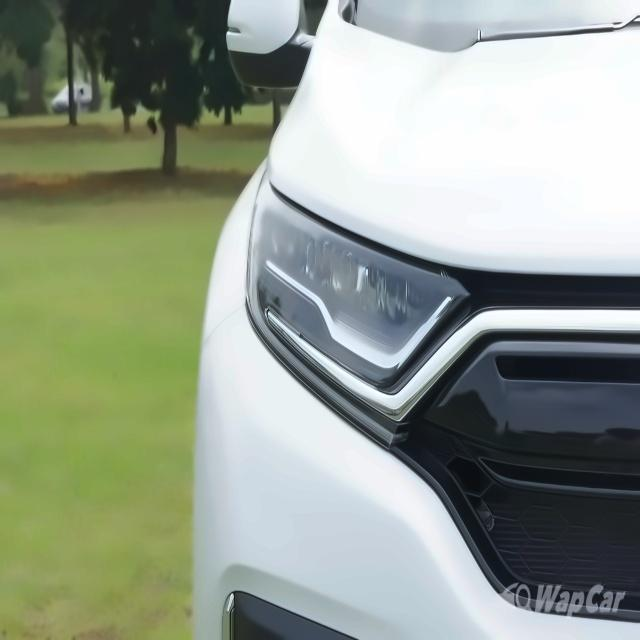Car hood: (264, 13, 640, 274)
Front bumper: (193, 303, 640, 640)
Headlight - -R-: (242, 163, 476, 446)
Side mirror - -R-: (221, 0, 321, 94)
